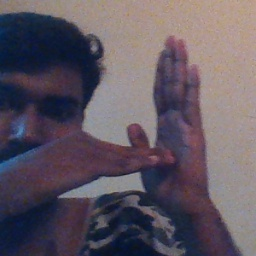Z: (93, 33, 211, 212)
